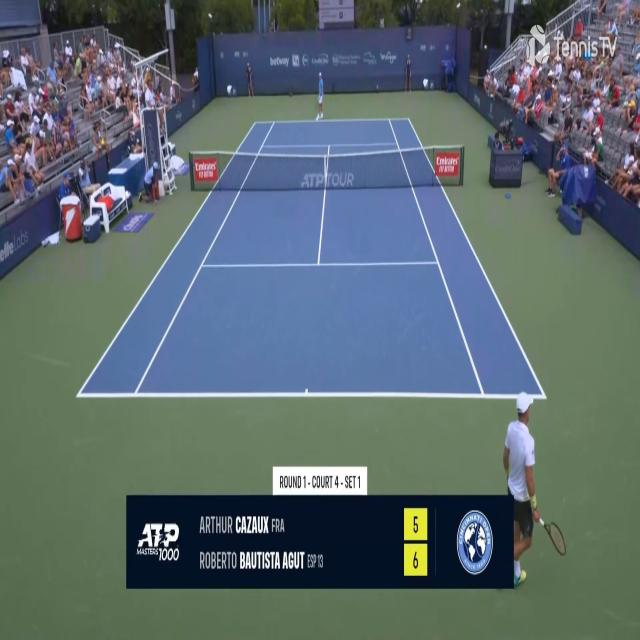tennis-player: (502, 391, 569, 589), (314, 70, 326, 122)
